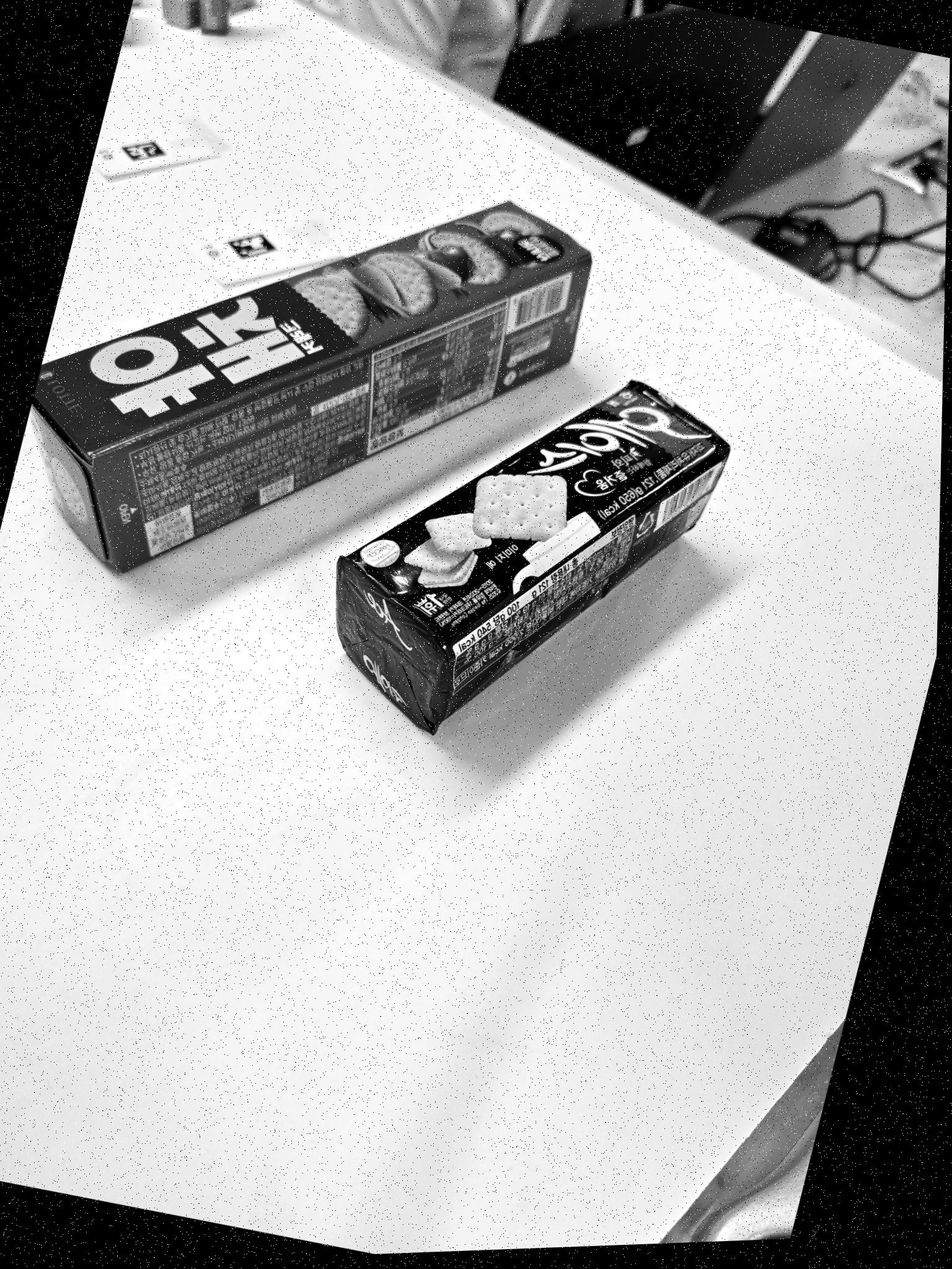cracker_ace: (335, 380, 729, 732)
cracker_vege: (29, 202, 591, 573)
